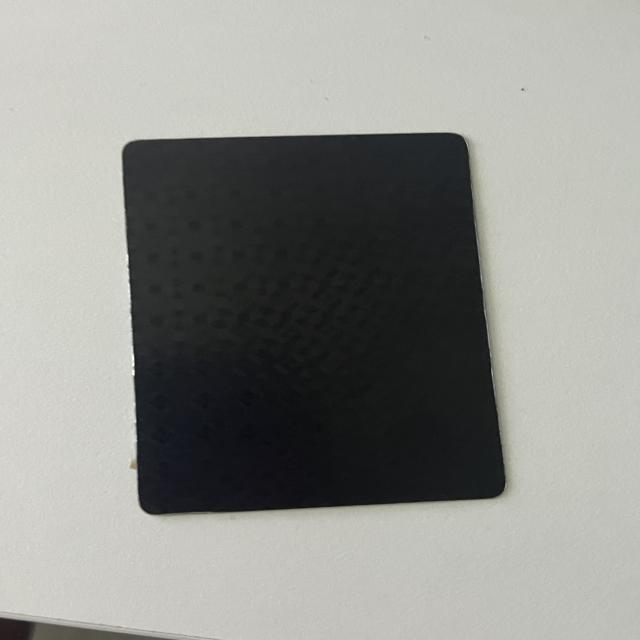BACK: (115, 140, 517, 508)
